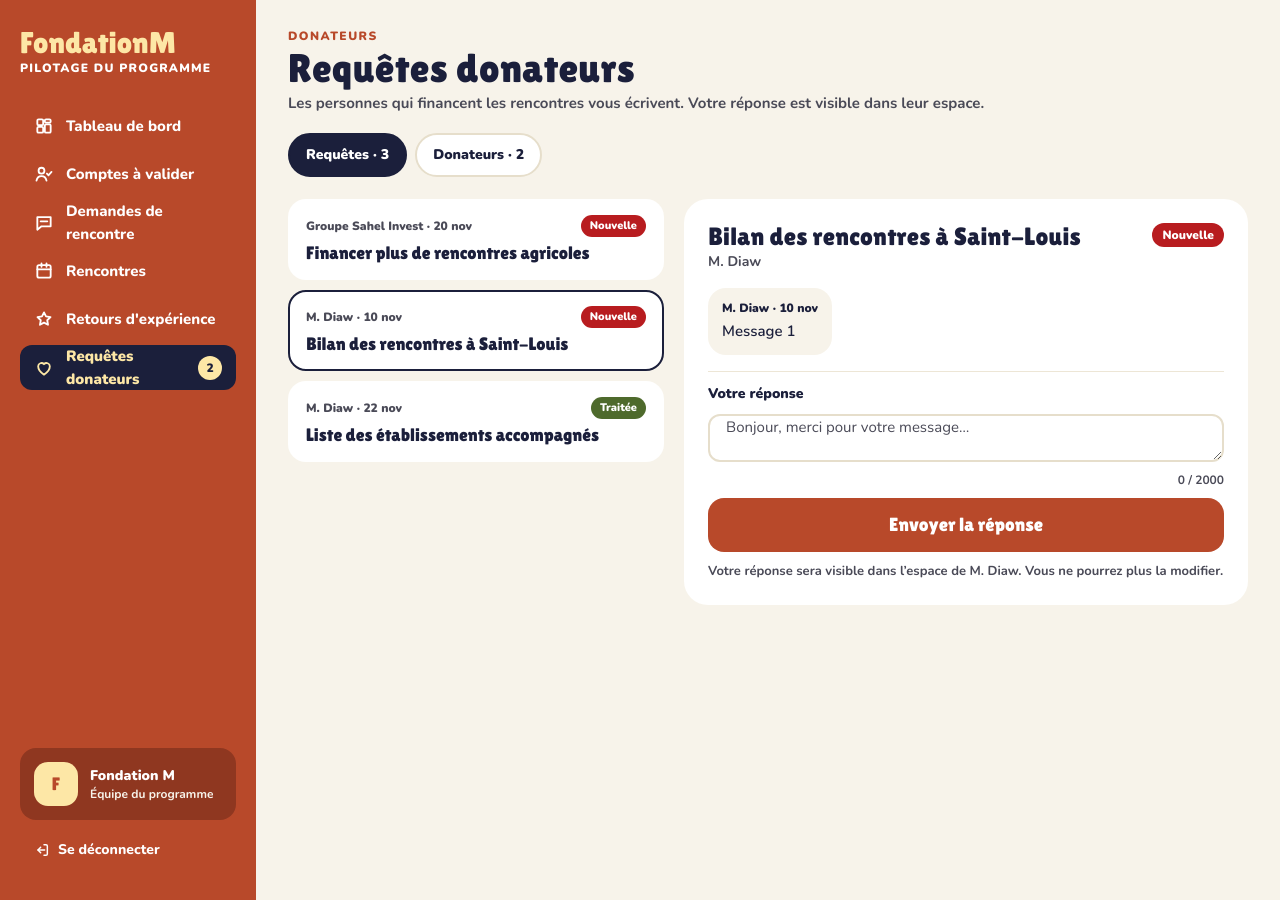
Test case: Requêtes donateurs › affiche l’erreur du serveur à l’envoi
In the text box labelled "Votre réponse": (966, 438) [708, 414, 1224, 462], type "Bonjour."
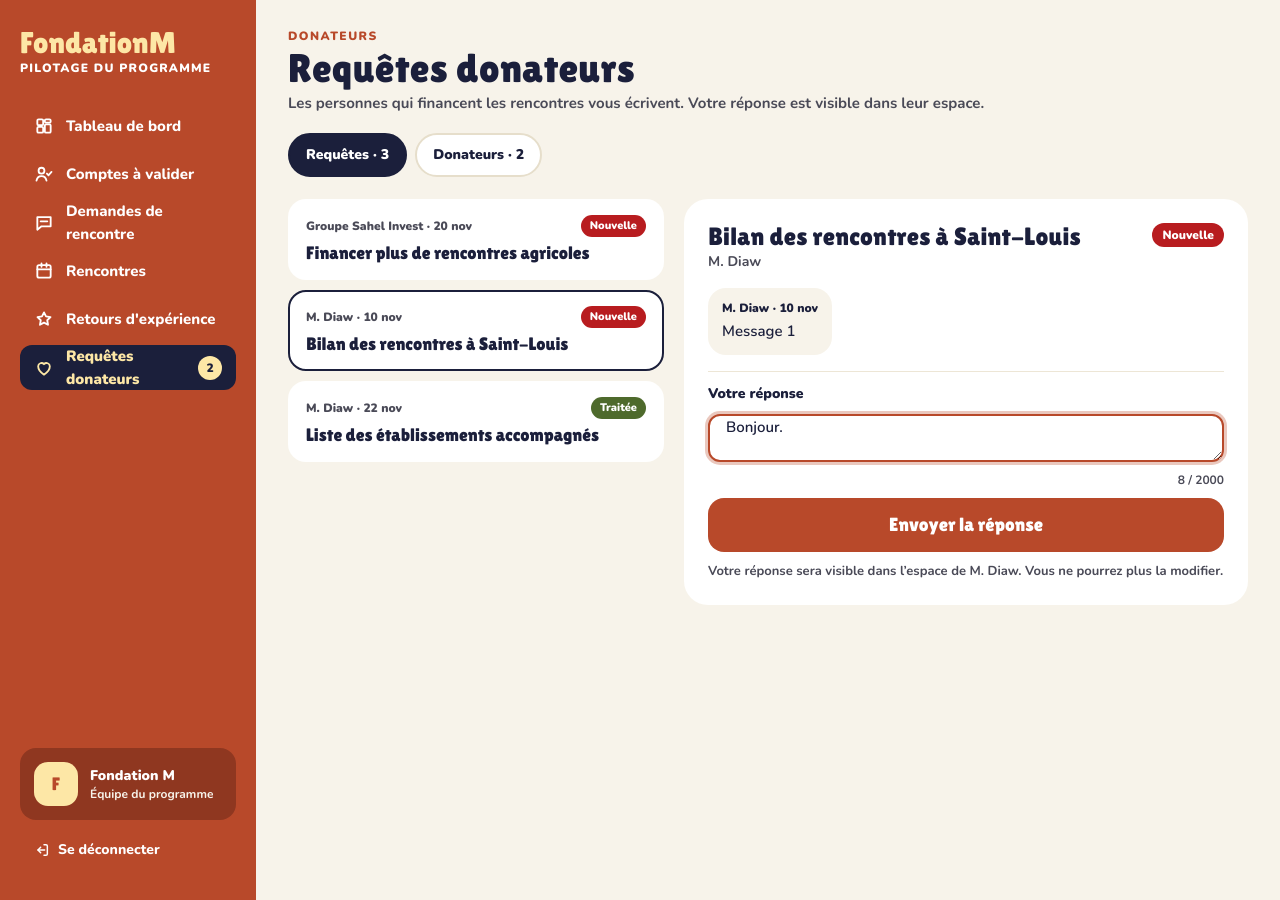
Click the button "Envoyer la réponse": (966, 524) [708, 498, 1224, 552]
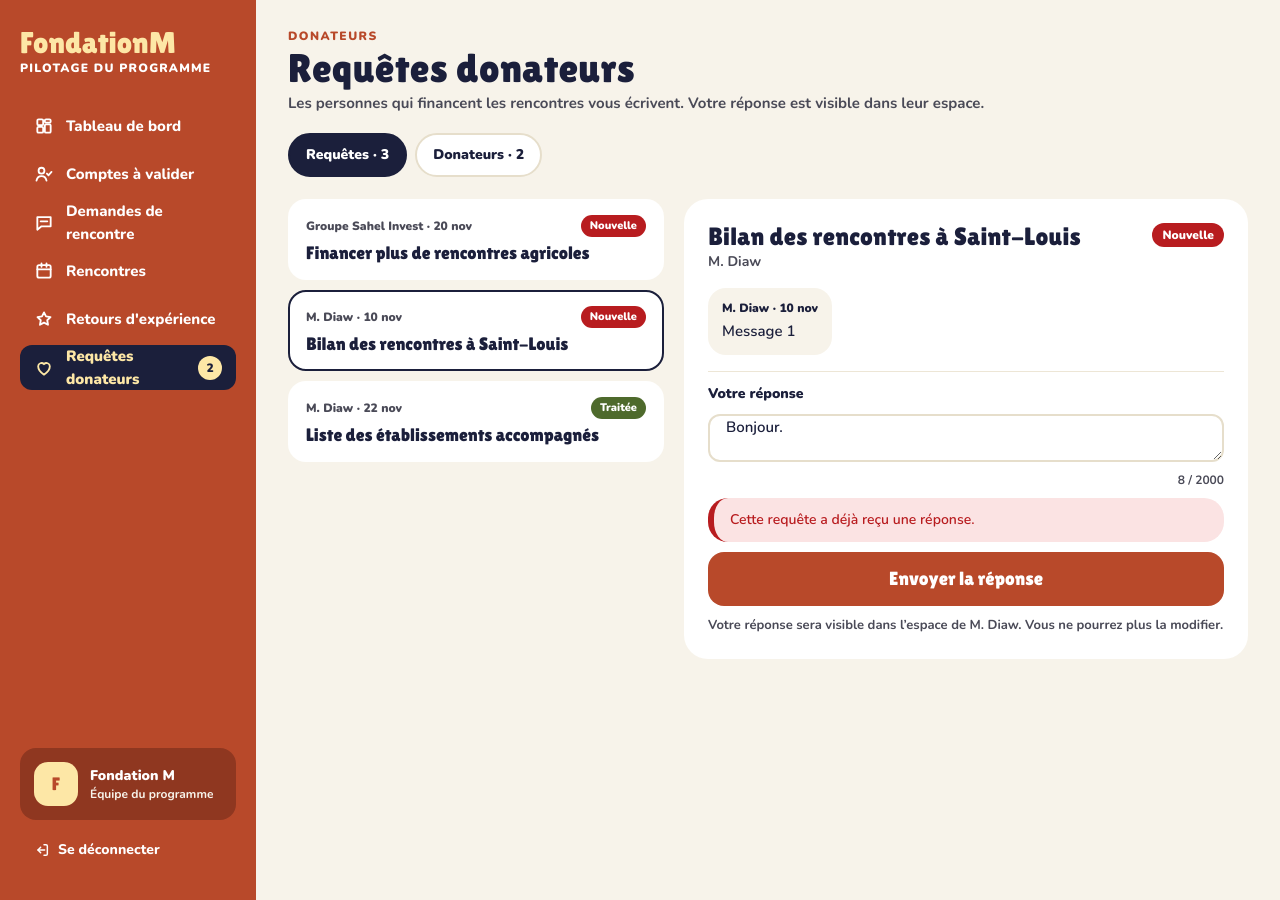
Check: the message "Cette requête a déjà reçu une réponse." is shown, box [708, 498, 1224, 542]
